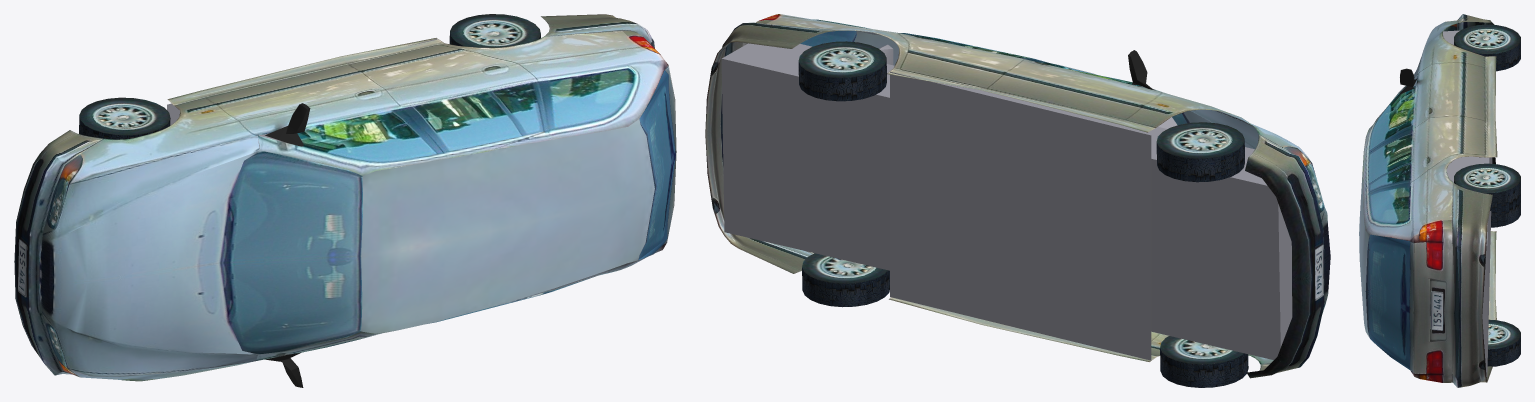
File: Car_15.obj
The picture shows the model from 3 angles, left to right: view 1: azimuth 30°, elevation 25°; view 2: azimuth 150°, elevation 25°; view 3: azimuth 270°, elevation 25°; orthographic projection. The views are drawn at different scales.
Visible parts, largest first — view 1: _5body, _5tyres, _5tyresurf; view 2: _5fill, _5body, _5tyresurf, _5tyres; view 3: _5body, _5tyres, _5tyresurf, _5fill, _5plates.
Part boxes in pixels (x1,y1,x2,y2): _5body: [14, 14, 676, 387]; _5tyres: [79, 14, 540, 135]; _5tyresurf: [79, 32, 540, 139]; _5fill: [721, 43, 1292, 360]; _5body: [705, 14, 1330, 378]; _5tyresurf: [798, 57, 1248, 387]; _5tyres: [798, 41, 1244, 364]; _5body: [1359, 14, 1497, 387]; _5tyres: [1454, 24, 1520, 349]; _5tyresurf: [1454, 42, 1520, 366]; _5fill: [1443, 30, 1492, 376]; _5plates: [1430, 291, 1443, 330].
Bounding box in the file's own units: 4.93 × 2.1 × 1.48.
